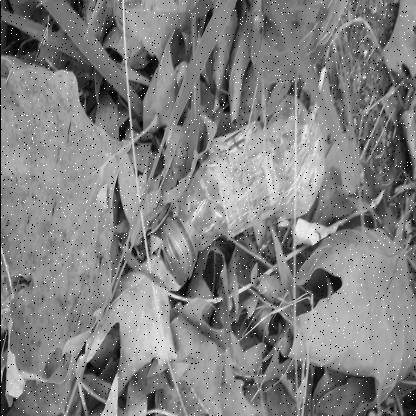plastic: (155, 94, 326, 287)
